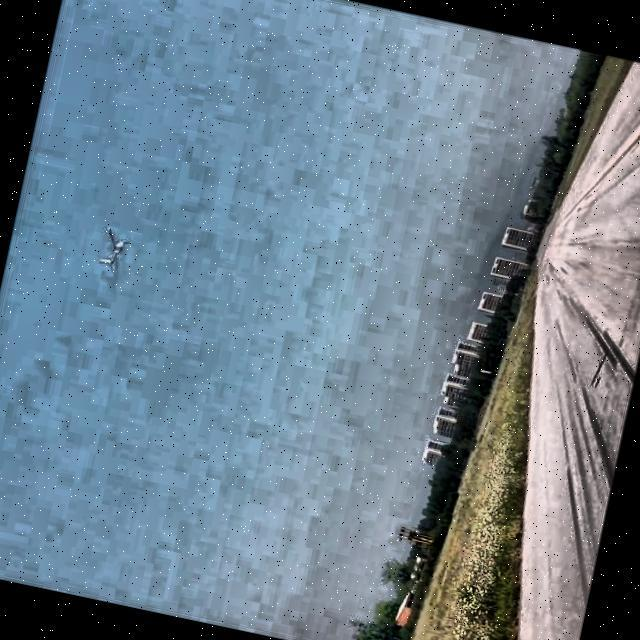iha: (45, 245, 60, 248)
